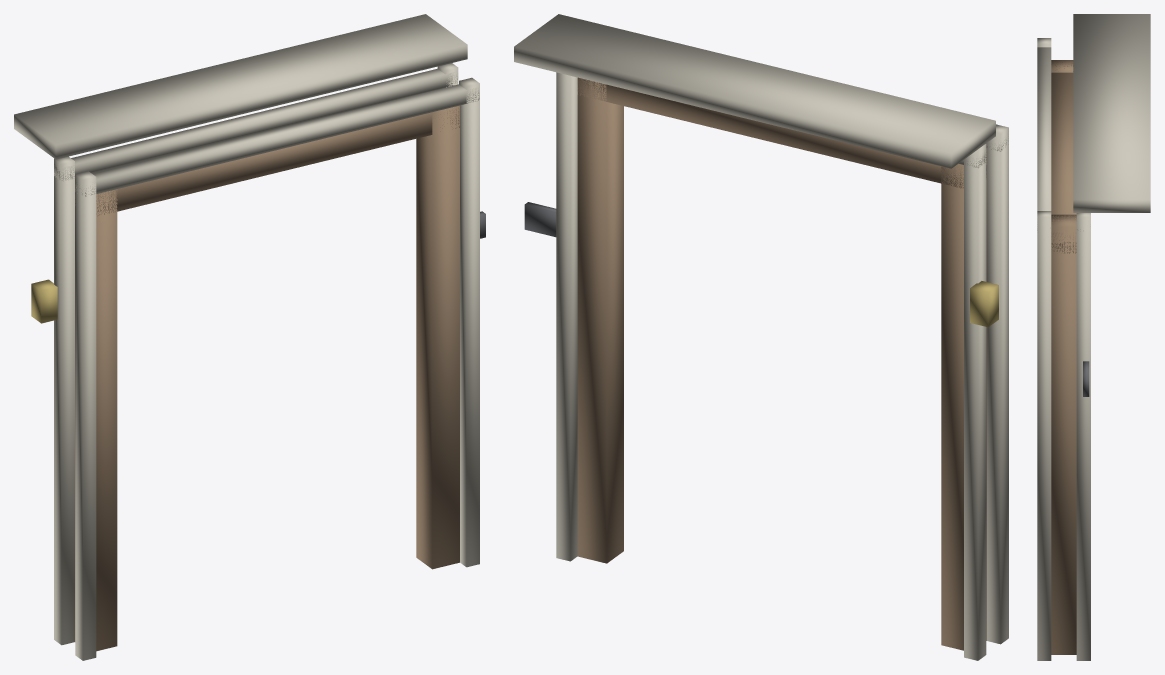
The model's file is doorway_motel_w182_h240_d16.glb.
3 renders of one model, left to right at view 1: azimuth 30°, elevation 25°; view 2: azimuth 150°, elevation 25°; view 3: azimuth 270°, elevation 25°, orthographic. The views are drawn at different scales.
Parts seen in each view (by area): view 1: world; view 2: world; view 3: world.
Part boxes in pixels (left/top/right/bottom): world: left=14, top=14, right=485, bottom=660; world: left=514, top=14, right=1008, bottom=660; world: left=1037, top=14, right=1150, bottom=660.
Size of the model in its own units: 2.57 by 2.78 by 0.6153.
